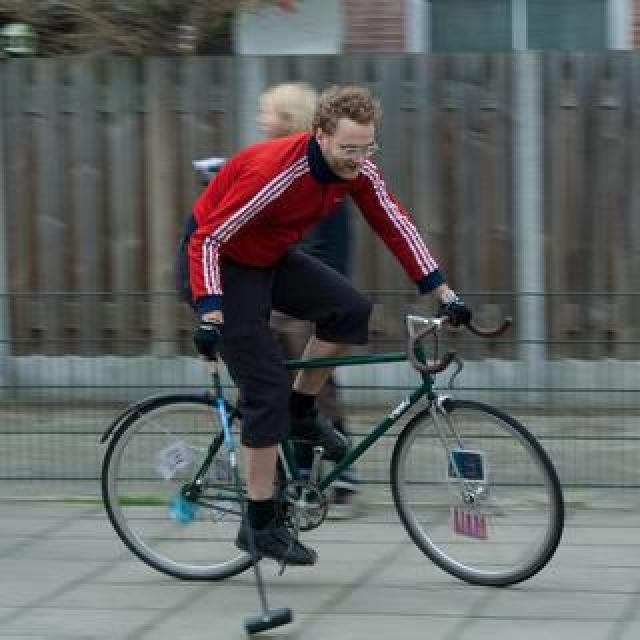MC-Bike: (182, 78, 490, 554)
Person: (104, 301, 556, 579)
